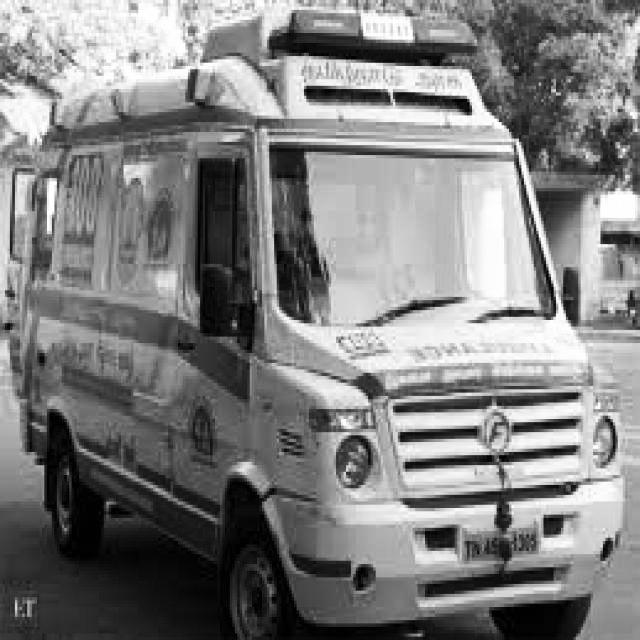LCV: (197, 8, 628, 626)
